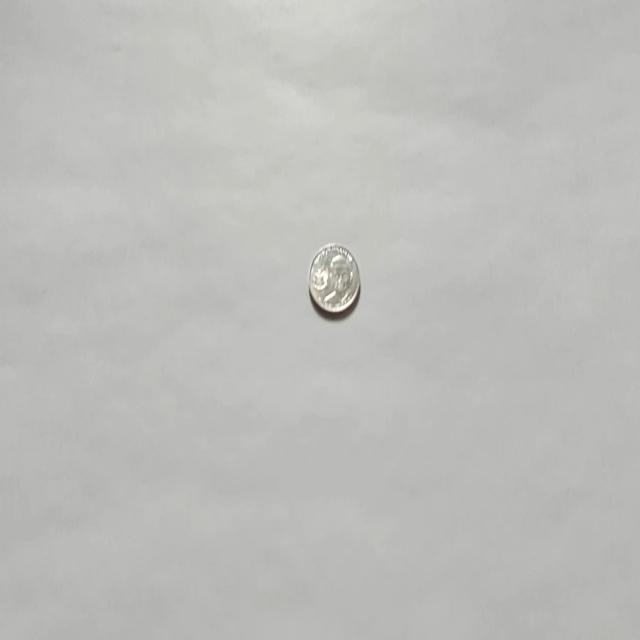seribu rupiah koin: (308, 240, 360, 316)
